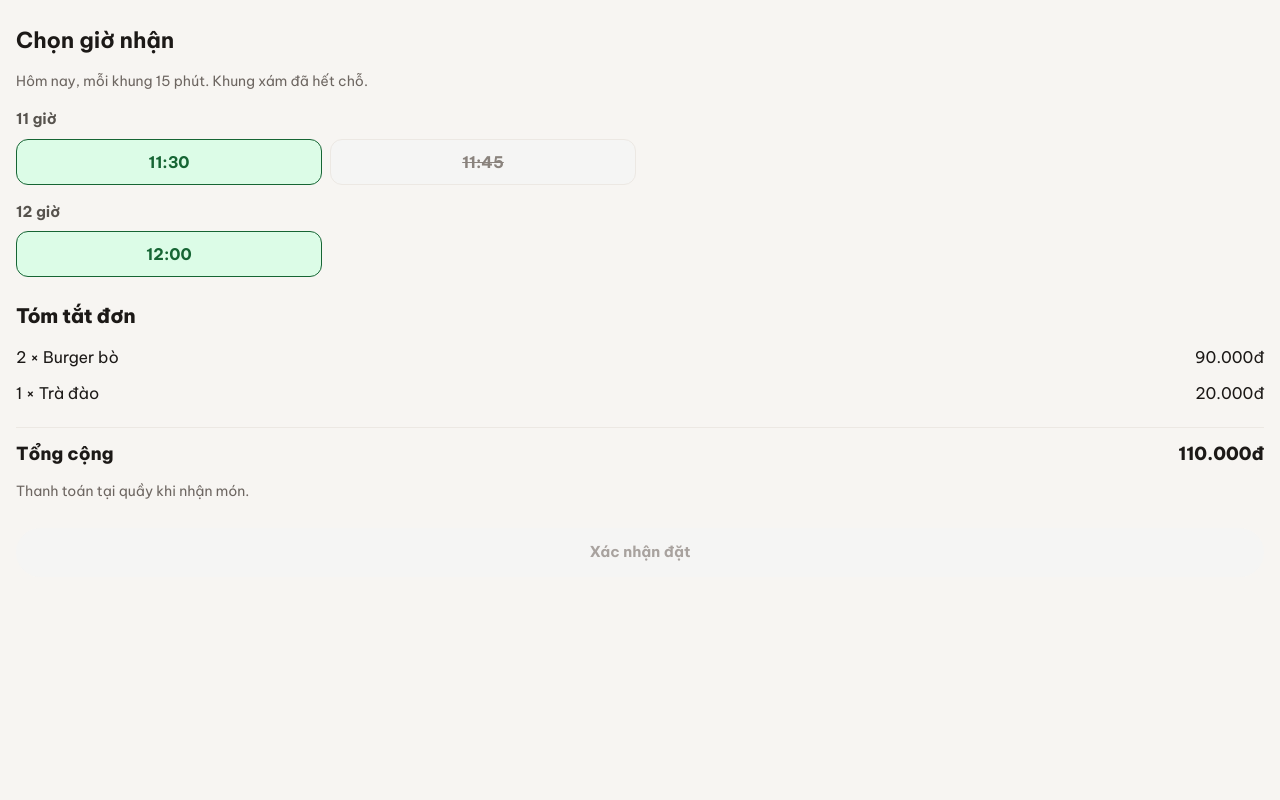
Test: CheckoutPage › đặt thành công: gửi đúng nội dung, hiện mã nhận, xóa giỏ (bước 8–11)
Click the button "11:30". click: {"x": 169, "y": 162}
box: [16,138,322,184]
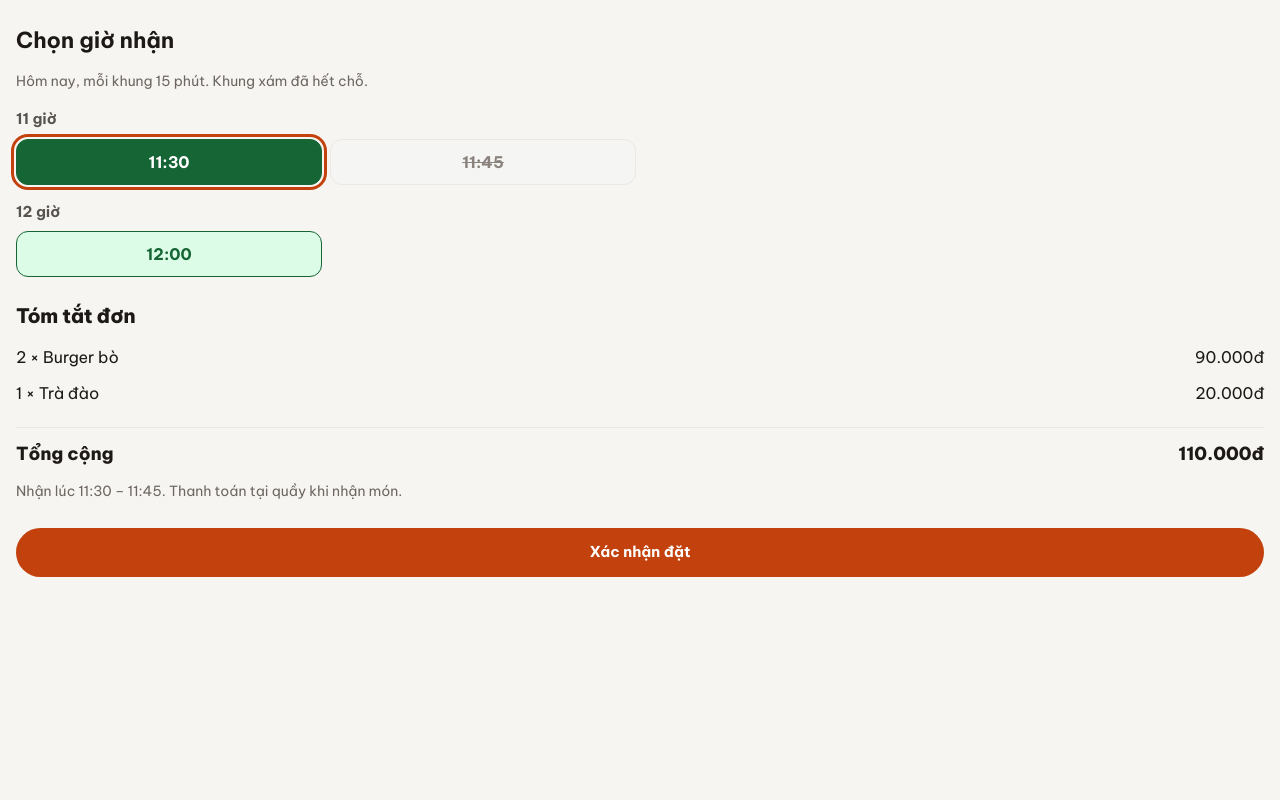
Click the button "Xác nhận đặt". click: {"x": 640, "y": 552}
box: [16,528,1264,576]
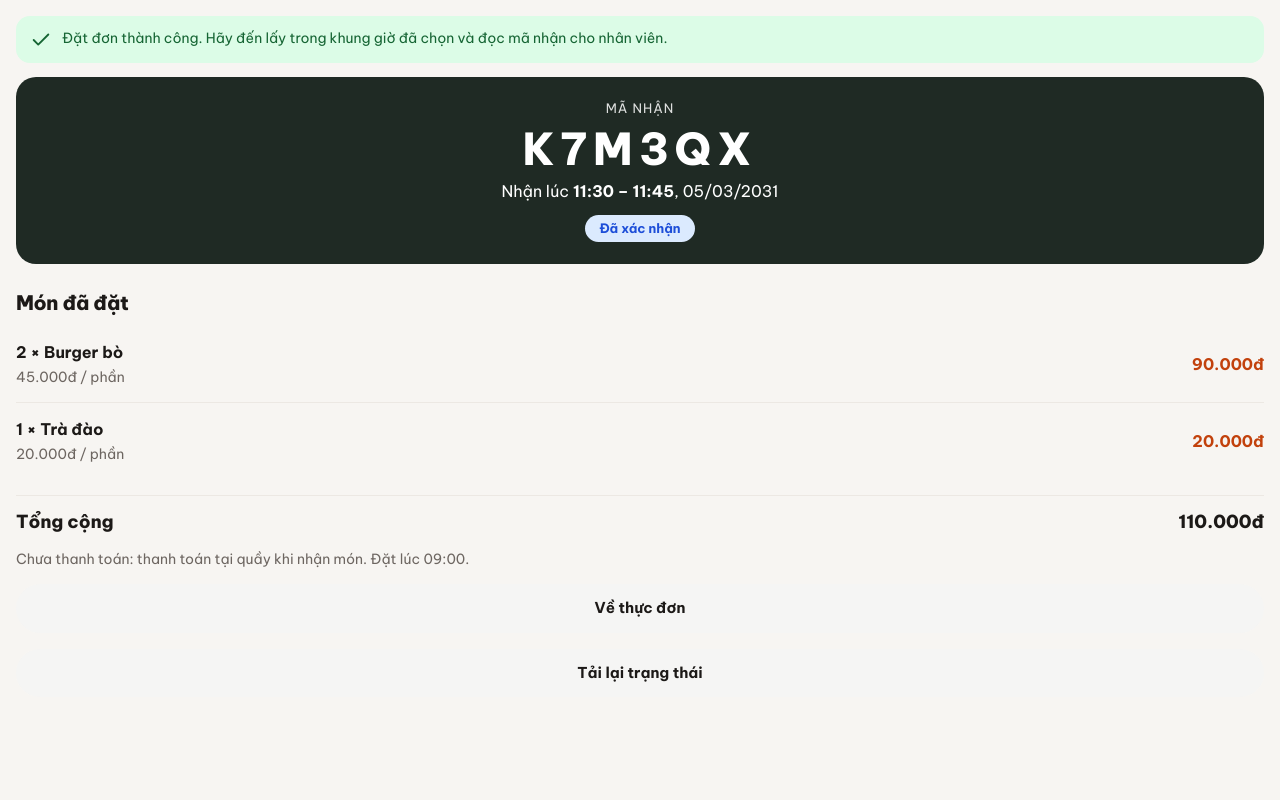
Check: the text "K7M3QX" is shown, box [522,124,758,173]
Check: the text "Đặt đơn thành công" is shown, box [62,29,667,47]
Check: the text "Đã xác nhận" is shown, box [585,215,695,242]
